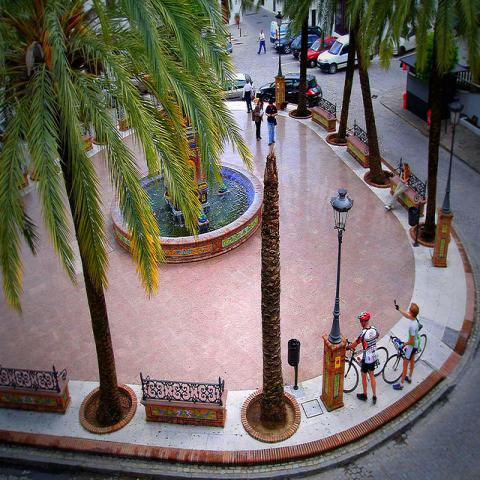car: (316, 34, 374, 76), (256, 73, 323, 108), (393, 18, 436, 57), (298, 37, 338, 68), (220, 73, 256, 102), (291, 31, 321, 58), (273, 32, 296, 54)
